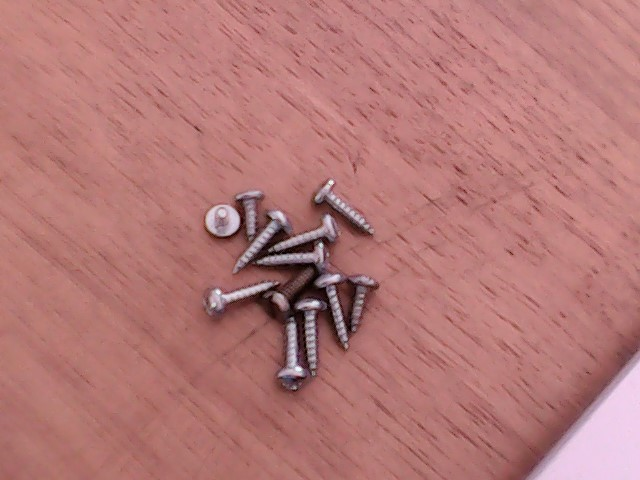Metal: (183, 174, 400, 403)
